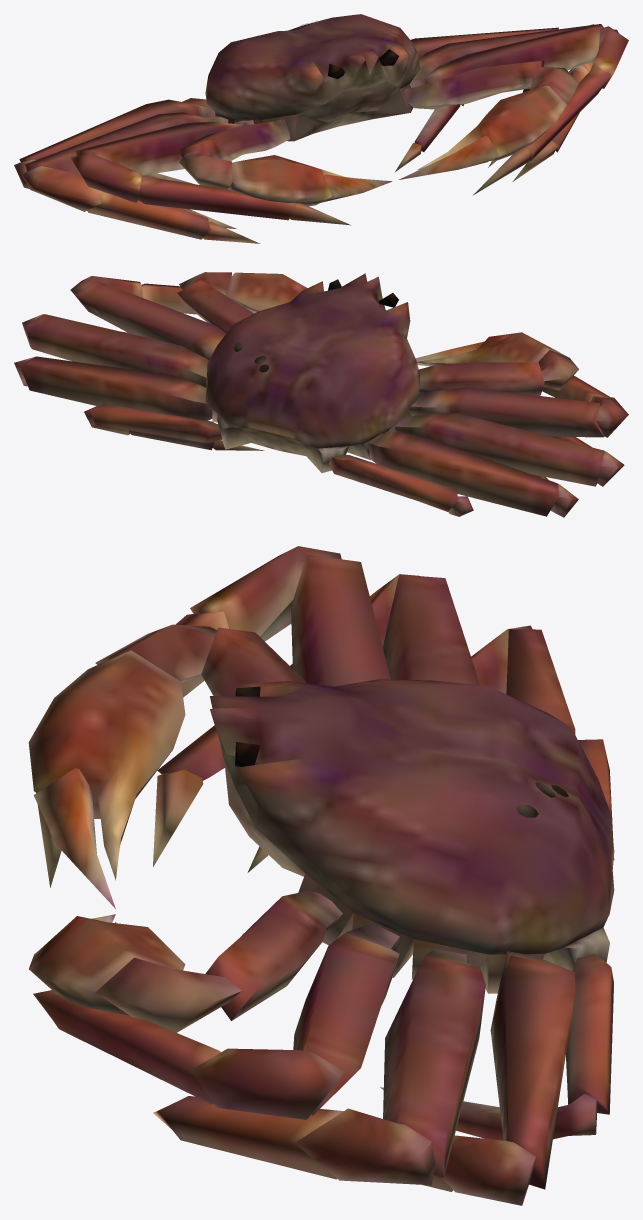
The model's file is snow-crab.glb.
3 views of the same model, one above another, from view 1: azimuth 30°, elevation 25°; view 2: azimuth 150°, elevation 25°; view 3: azimuth 270°, elevation 25° (orthographic). The views are drawn at different scales.
Size of the model in its own units: 8.96 by 2.31 by 3.82.
1 material, 1 textured.
